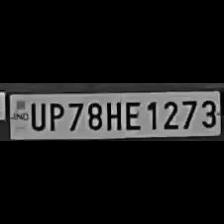1: (144, 99, 159, 130)
2: (158, 98, 178, 130)
3: (198, 97, 216, 128)
7: (64, 99, 82, 131), (178, 97, 196, 129)
8: (84, 99, 104, 131)
E: (122, 98, 142, 132)
H: (103, 98, 121, 132)
P: (46, 100, 64, 132)
U: (27, 100, 45, 132)
